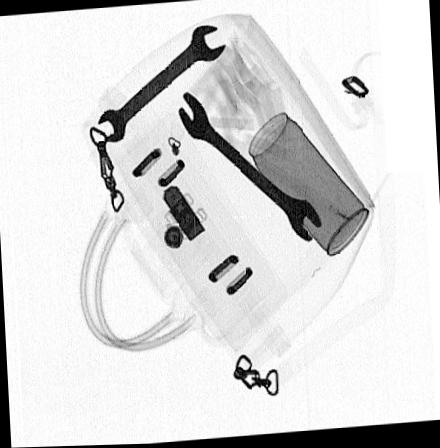Wrench: (179, 91, 323, 242), (97, 24, 230, 141)
